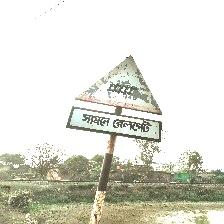Rail-crossing: (68, 56, 163, 142)
